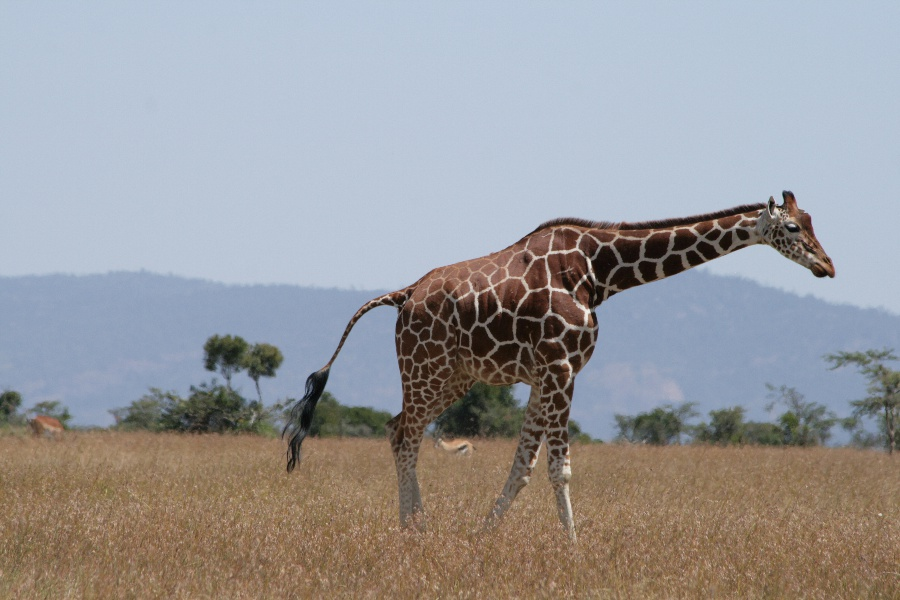giraffe: (371, 180, 837, 540)
